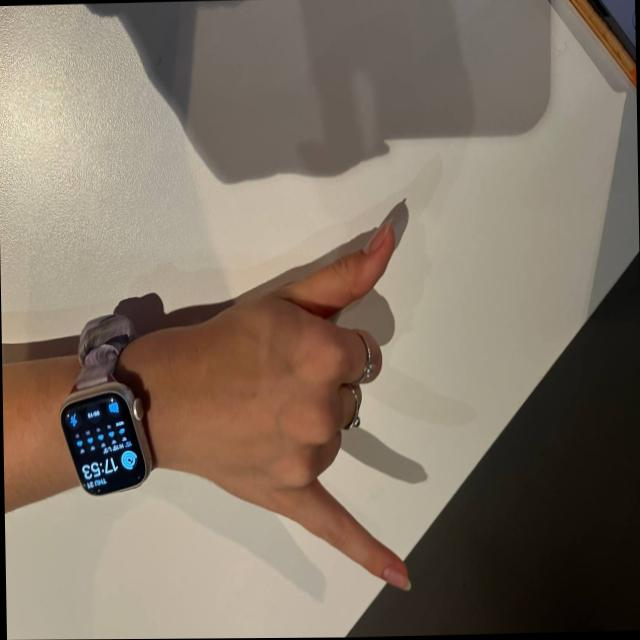u: (186, 143, 472, 604)
